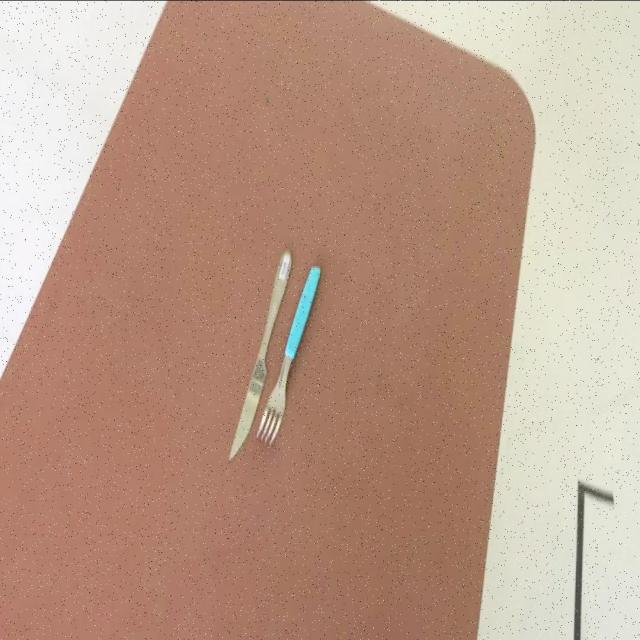Fork: (255, 264, 322, 446)
Knife: (227, 250, 293, 464)
